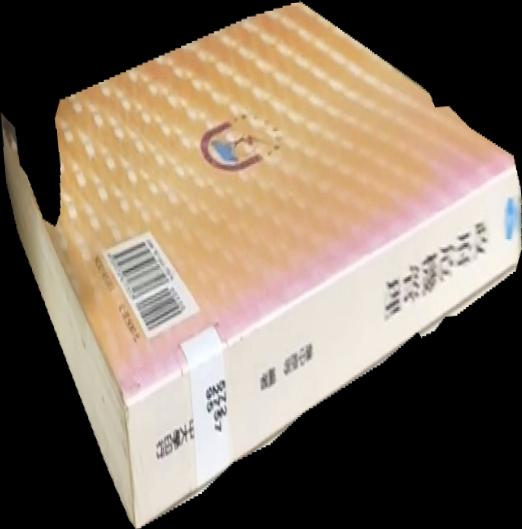flat: (1, 1, 522, 529)
